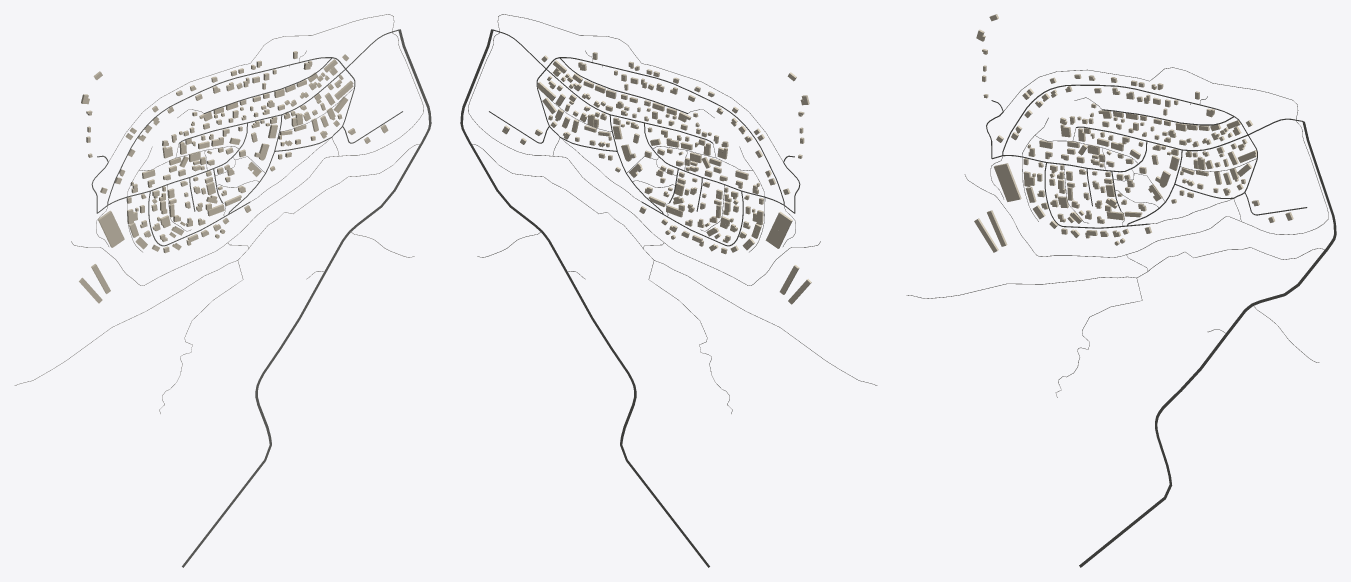
File: historic-palestine-11_36_3531_3308.glb
3 renders of one model, left to right at view 1: azimuth 30°, elevation 25°; view 2: azimuth 150°, elevation 25°; view 3: azimuth 330°, elevation 25°, orthographic. The views are drawn at different scales.
Parts seen in each view (by area): view 1: Road 8993, Building_; view 2: Road 8993, Building_; view 3: Road 8993, Building_, Road .009.
Part boxes in pixels (x1,y1,x2,y2): Road 8993: [182, 29, 431, 567]; Building_: [98, 210, 124, 247]; Road 8993: [460, 29, 709, 567]; Building_: [765, 211, 792, 248]; Road 8993: [1079, 121, 1336, 567]; Building_: [994, 163, 1021, 201]; Road .009: [964, 120, 1328, 257].
Size of the model in its own units: 1315 by 1555 by 8.7.
